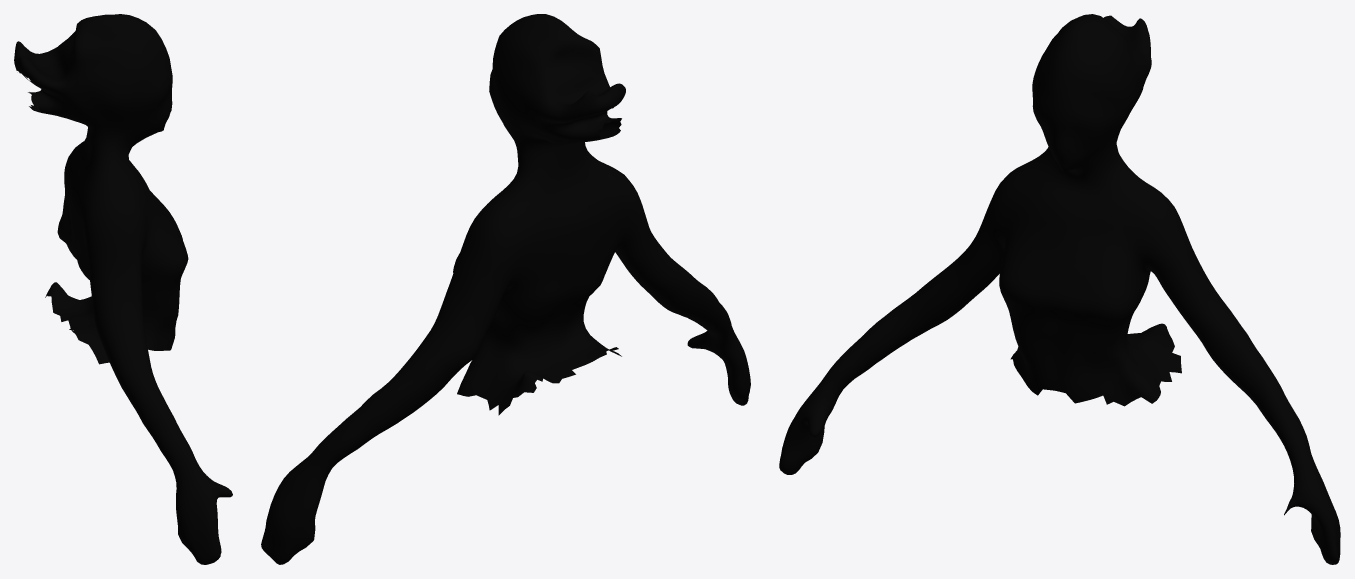
Rendered from Alien.obj.
The picture shows the model from 3 angles, left to right: view 1: azimuth 30°, elevation 25°; view 2: azimuth 150°, elevation 25°; view 3: azimuth 270°, elevation 25°; orthographic projection. The views are drawn at different scales.
Visible parts, largest first — view 1: Alien; view 2: Alien; view 3: Alien.
Part boxes in pixels (x1=…): Alien: x1=14, y1=14, x2=232, y2=564; Alien: x1=261, y1=14, x2=750, y2=564; Alien: x1=779, y1=14, x2=1340, y2=564.
Size of the model in its own units: 0.922 by 1.75 by 1.86.
1 material, 1 textured.
